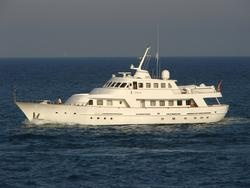yacht: (11, 45, 233, 127)
